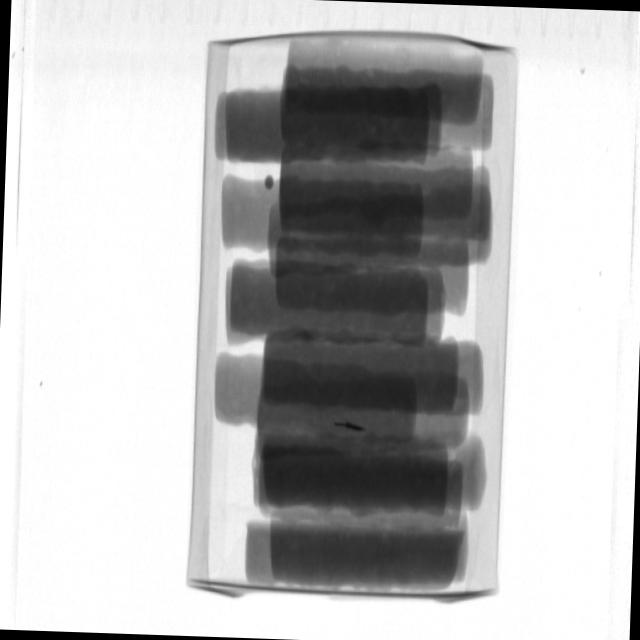ym: (336, 421, 366, 433), (265, 174, 276, 190)
